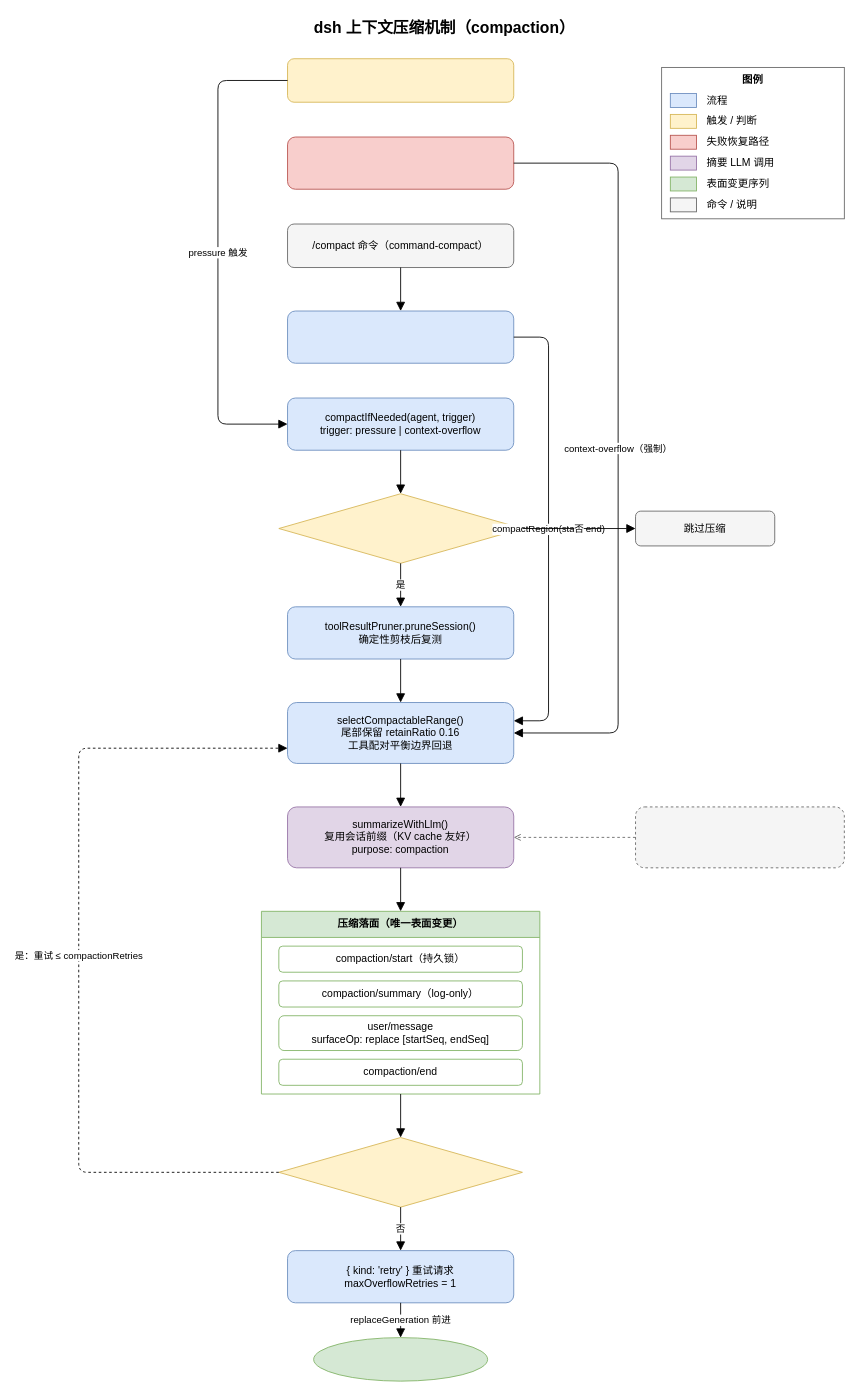
This 860x1396 diagram has some shape labels left out. Each missing label, with the centre of its shape:
agent/pre-step （每个 step 组装前）: point 400,80
agent/request-error code = CONTEXT_WINDOW_EXCEEDED: point 400,162
compactNow(agent) 空闲串行化（runMaintenance）: point 400,336
totalTokens ≥ thresholdRatio 0.8 × contextWindow ?: point 400,528
回到 llm.stream(): point 400,1359
复测仍超阈值？: point 400,1172
摘要仅保留文本块； 输出包裹于 compacted-summary 标签内 作为替代 user 消息落面: point 739,837
